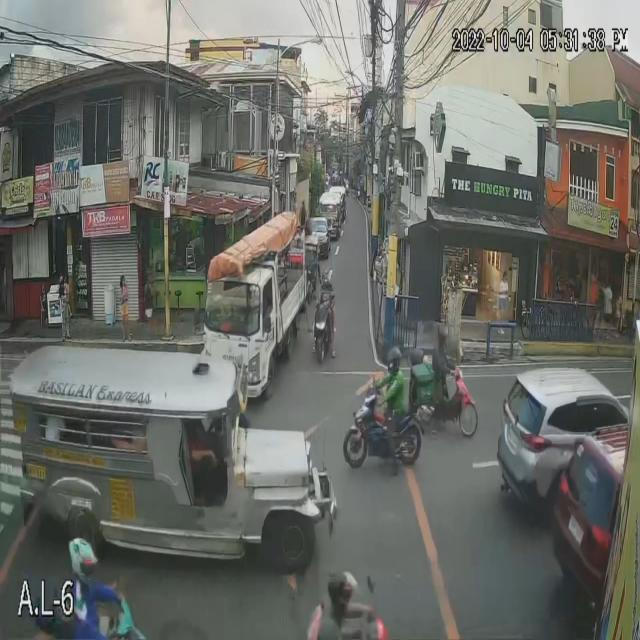full: (68, 535, 96, 583), (387, 347, 401, 376)
half: (326, 566, 358, 616)
